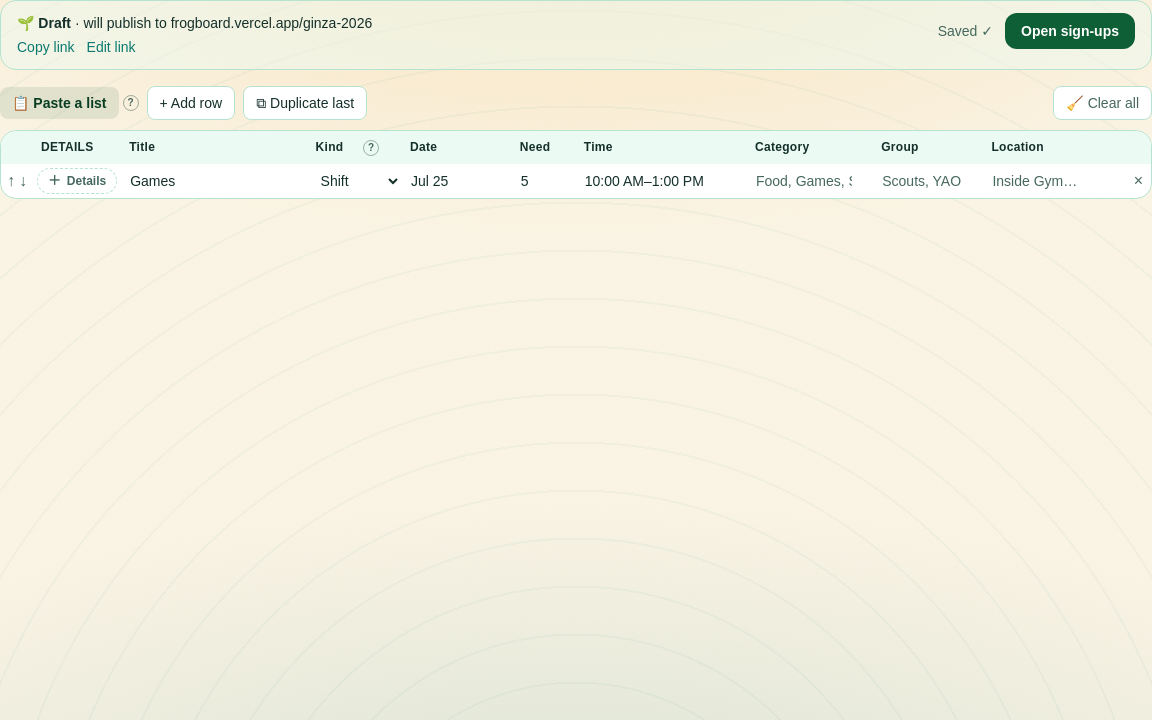
Test: expanding a row reveals the prose fields with their question prompts
Click the button with aria-label "details, row 1".
click(77, 181)  # box [37,168,117,194]
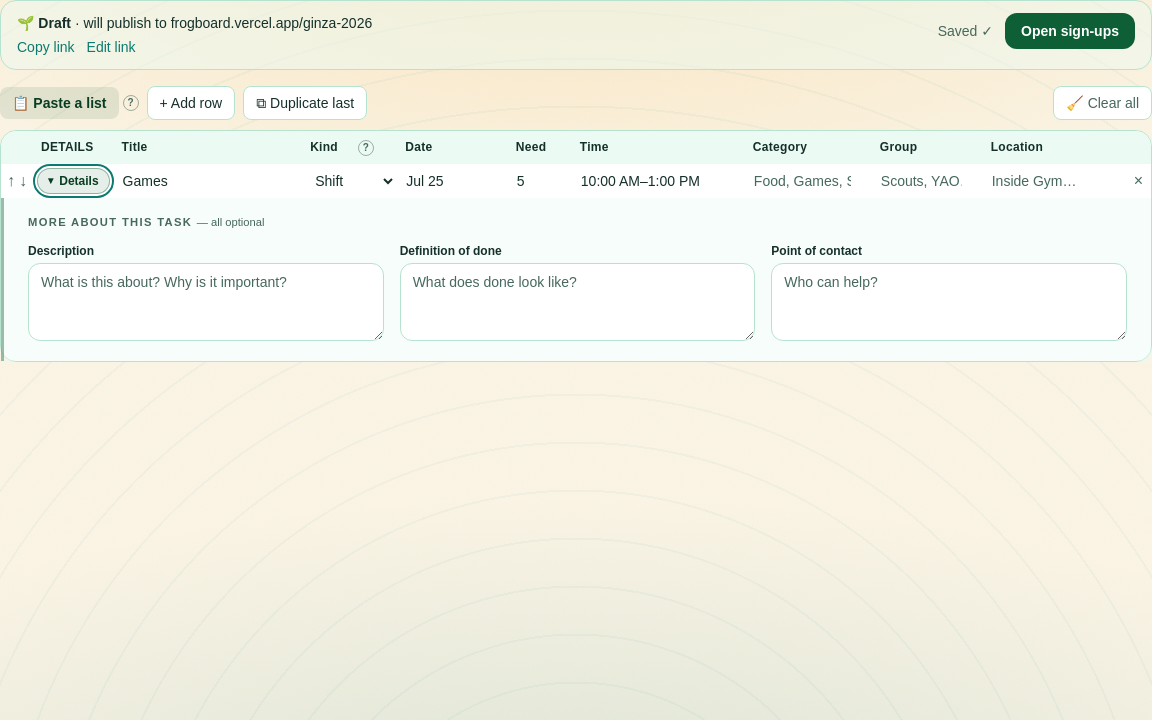
Expected: the button with aria-label "details, row 1" is expanded, [37,168,110,194]
Expected: the text box with placeholder "What is this about? Why is it important?" is shown, [28,263,384,341]
Expected: the text box with placeholder "What does done look like?" is shown, [400,263,755,341]
